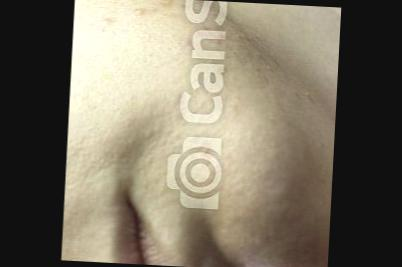Acne: (99, 14, 116, 26), (130, 4, 144, 14), (155, 0, 171, 7)
